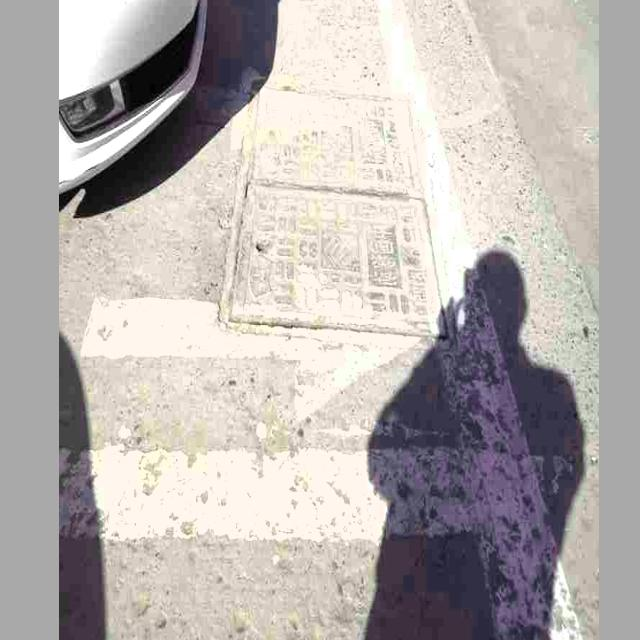good: (216, 83, 458, 349)
